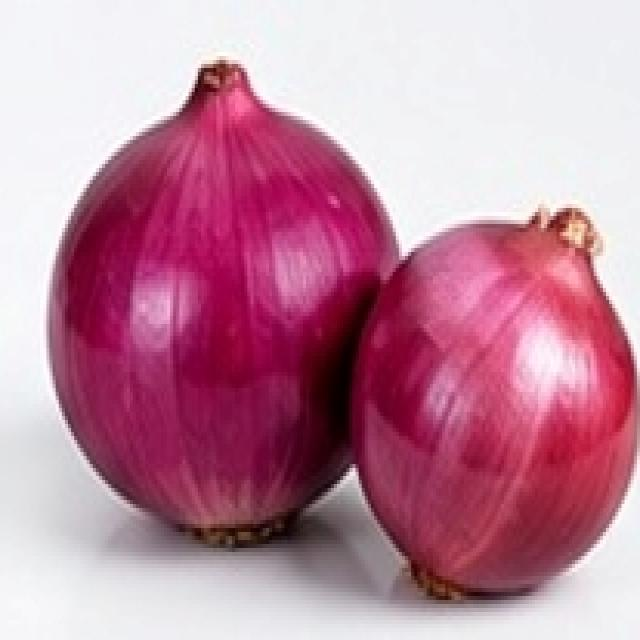healthy: (53, 64, 396, 540), (29, 59, 356, 496)
